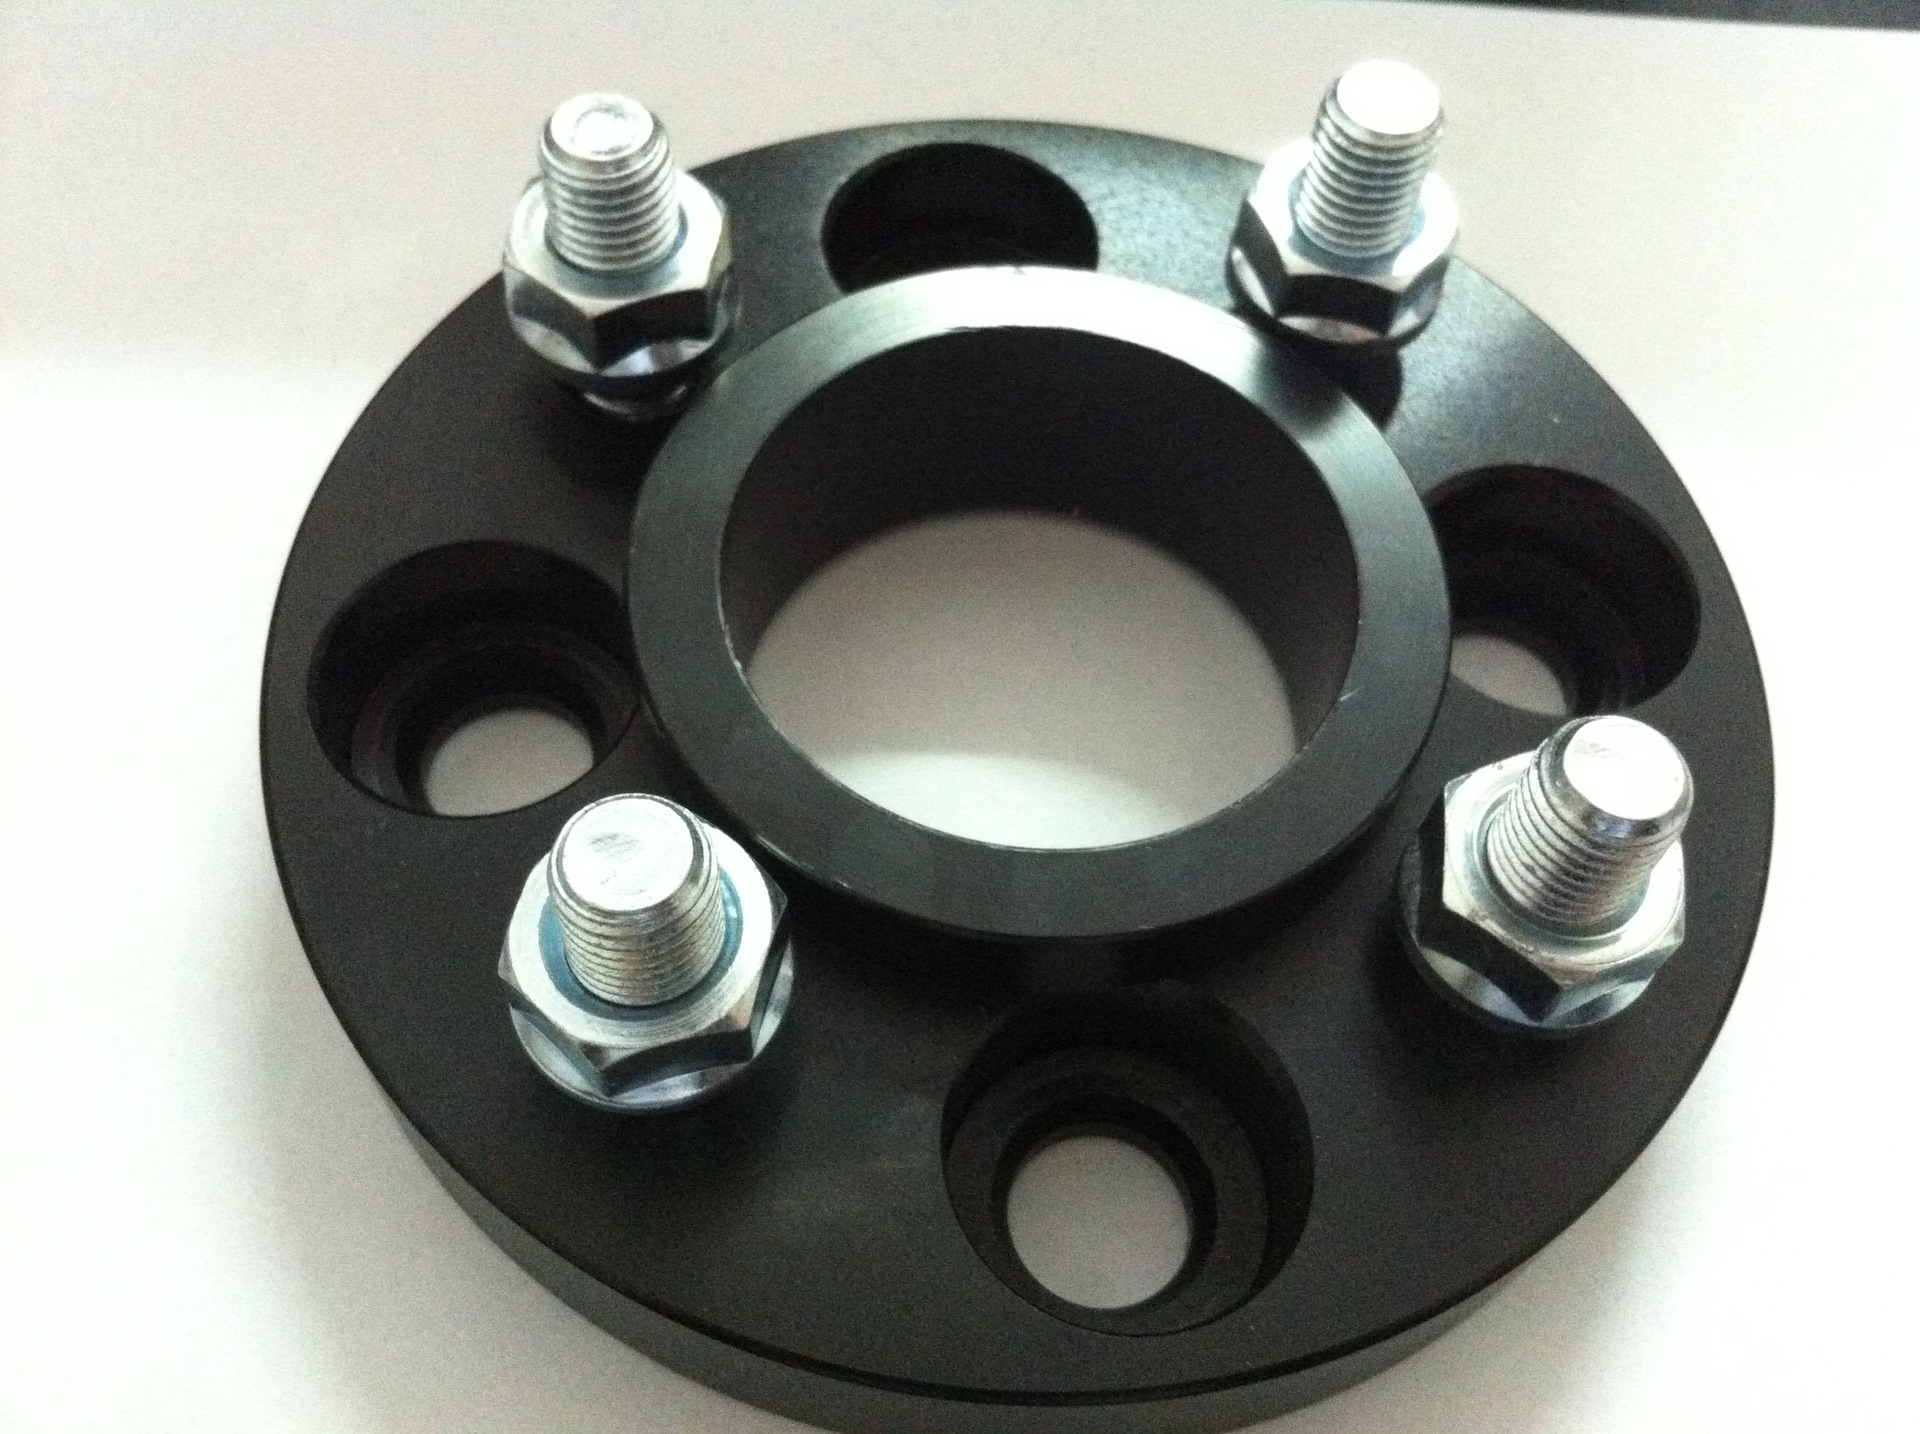bolt_b: (495, 816, 794, 1098), (1406, 744, 1699, 1018), (498, 145, 736, 374), (1227, 127, 1464, 334)
